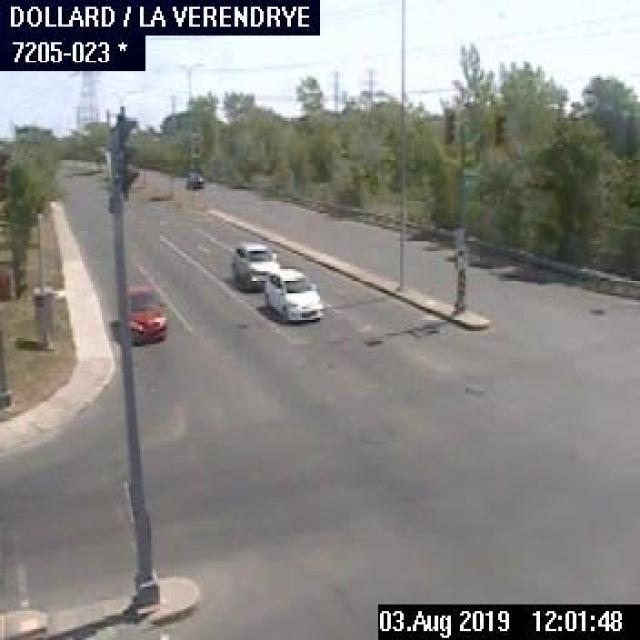vehicle: (263, 265, 319, 322), (230, 240, 275, 289), (129, 287, 167, 342), (187, 169, 204, 189)
